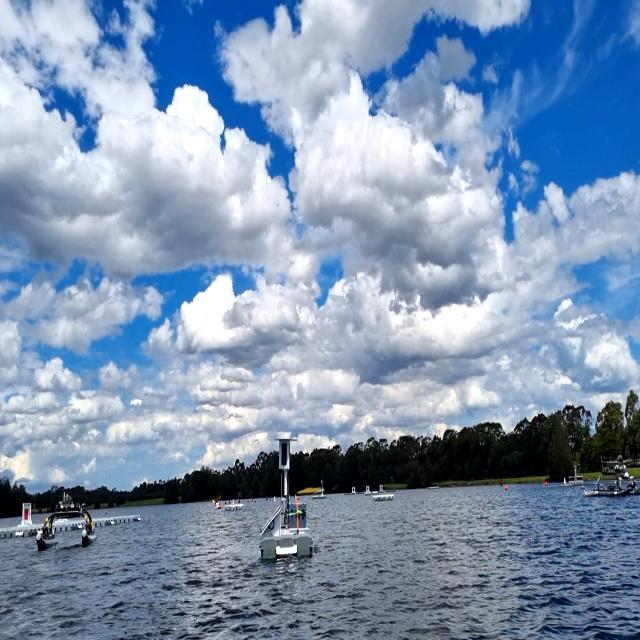led: (280, 440, 288, 468)
